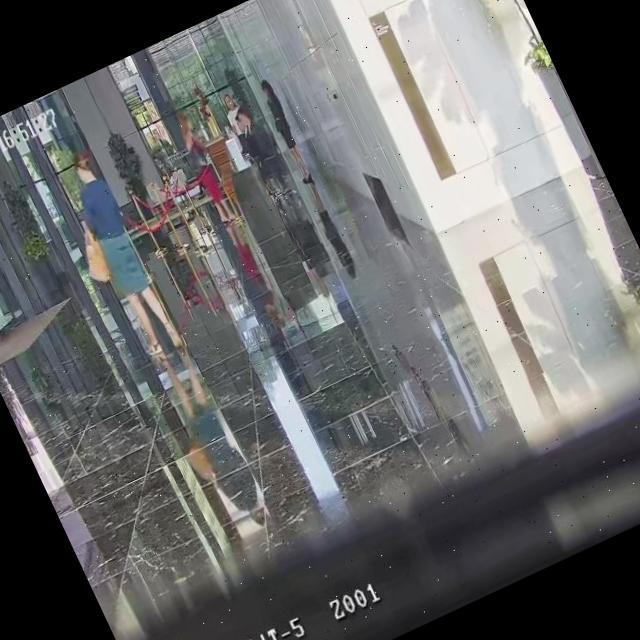person: (54, 142, 198, 386), (168, 109, 238, 228), (255, 76, 317, 186), (234, 102, 278, 164), (232, 112, 262, 158), (218, 92, 248, 136)
